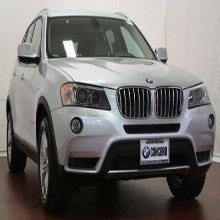no damage: (5, 7, 216, 209)
